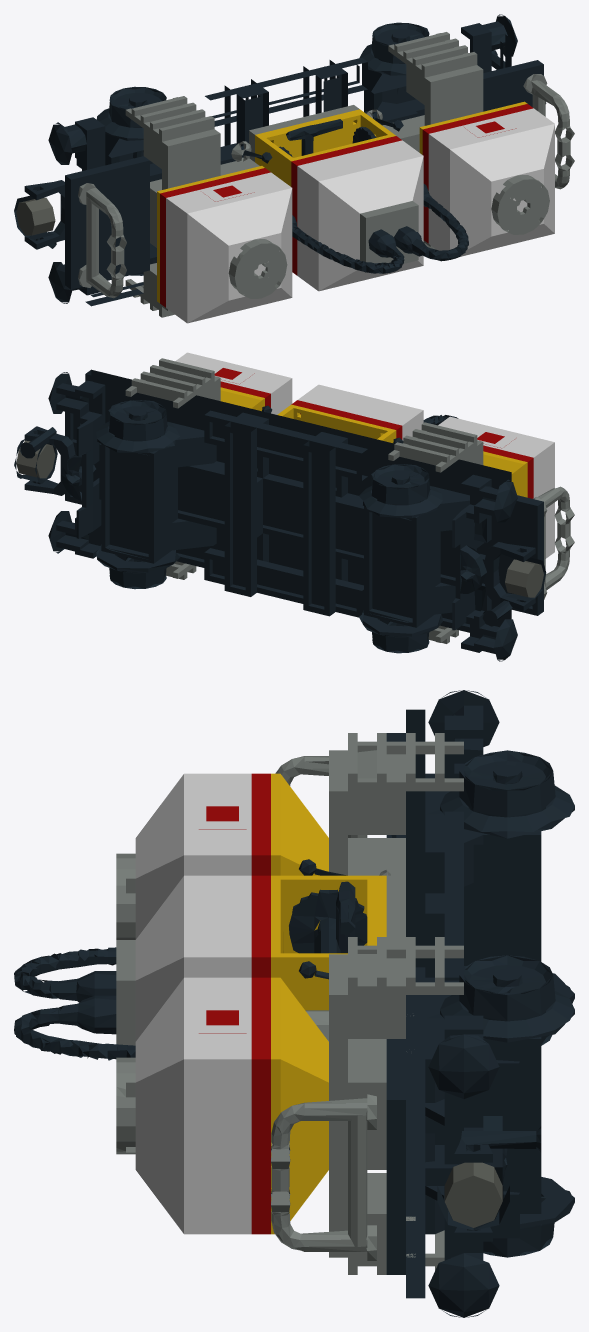
Rendered from shell-tanker-wagon.glb.
The picture shows the model from 3 angles, top to bottom: view 1: azimuth 30°, elevation 25°; view 2: azimuth 150°, elevation 25°; view 3: azimuth 270°, elevation 25°; orthographic projection. The views are drawn at different scales.
Bounding box in the file's own units: 155 × 54.4 × 92.99.
